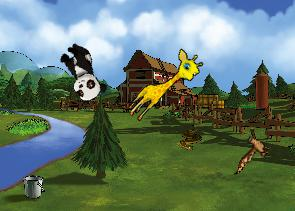eagle: (234, 127, 271, 175)
giraffe: (123, 44, 207, 130)
panda: (53, 39, 110, 106)
